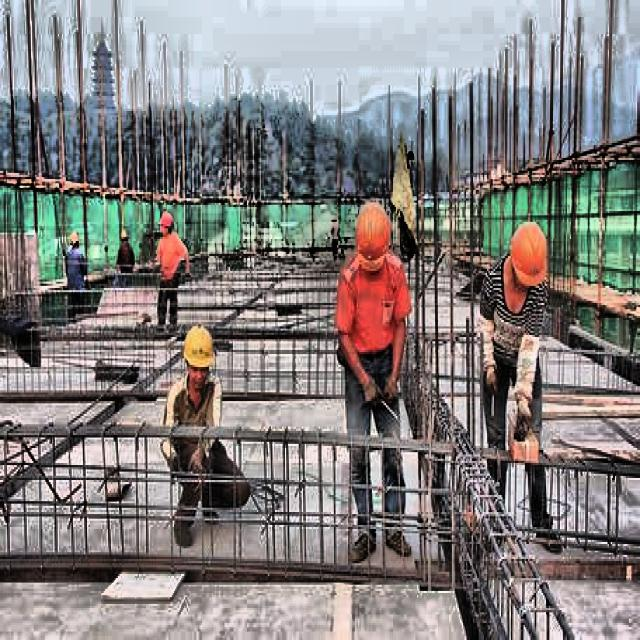helmet: (501, 218, 549, 312), (352, 201, 396, 275), (180, 318, 218, 392), (159, 209, 178, 243)
